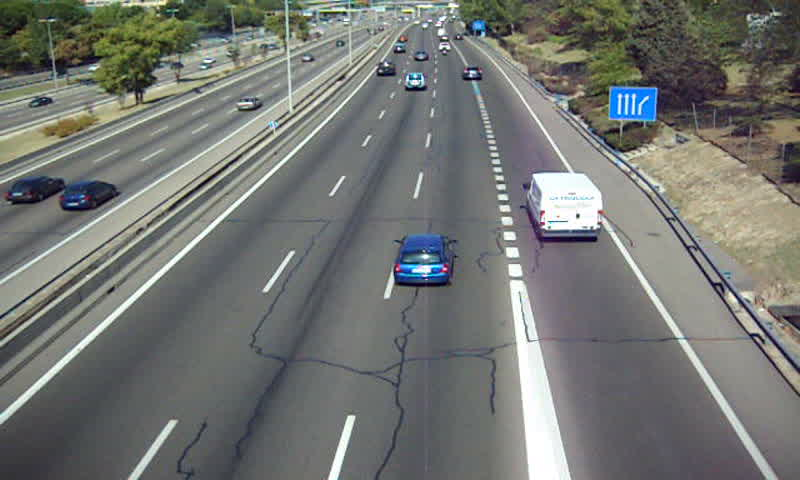car: (393, 234, 454, 287), (404, 73, 426, 91), (376, 60, 396, 78), (460, 66, 485, 80)
van: (522, 173, 603, 240)
